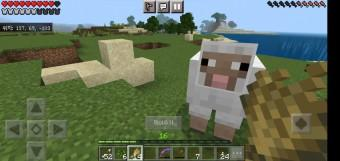sheep: (185, 41, 266, 141)
